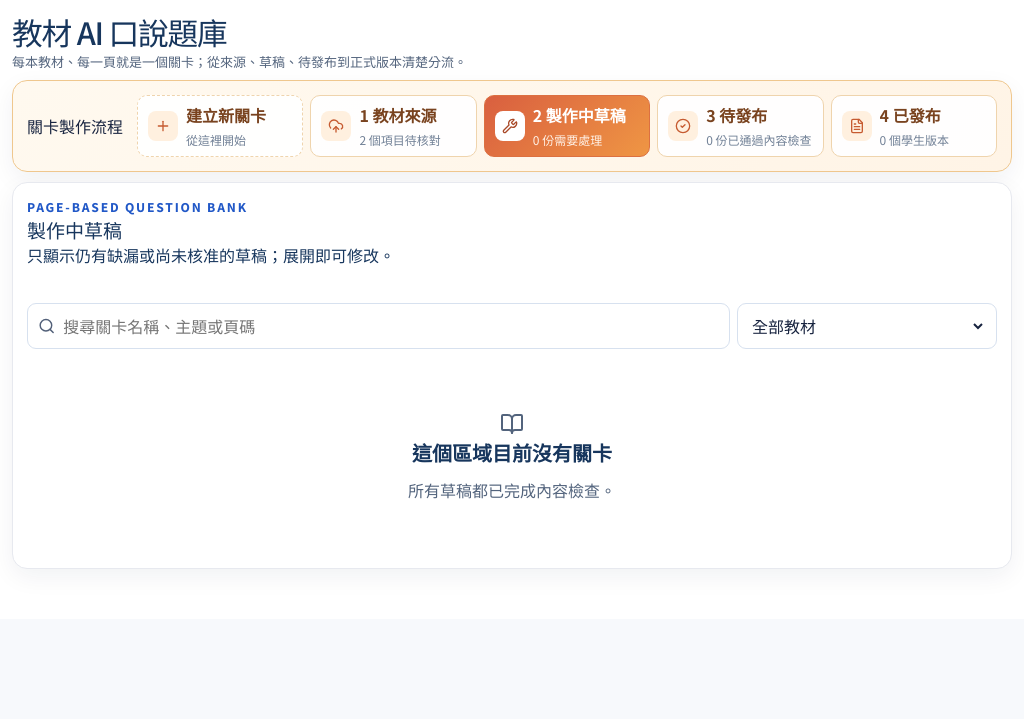
Test: SpeakingContentAdmin whole-book OCR › shows four source tabs and hides superseded whole-book OCR duplicates
The width and height of the screenshot is (1024, 719).
Step 1. Click the button "1 教材來源 2 個項目待核對" → click(394, 126), box [310,95,477,157]
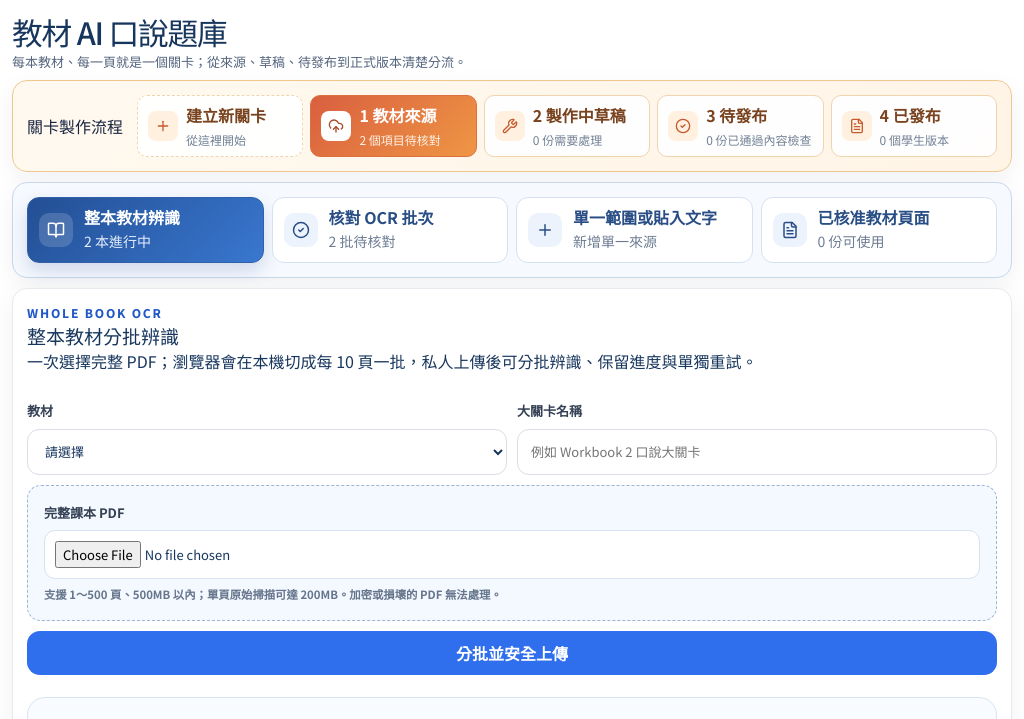
Check: the navigation bar named "教材來源分類" is shown, box [12,182,1012,278]
Check: the button "整本教材辨識 2 本進行中" is shown, box [27,197,264,263]
Check: the button "核對 OCR 批次 2 批待核對" is shown
Step 2. Click the button "核對 OCR 批次 2 批待核對" → click(390, 230), box [272,197,508,263]
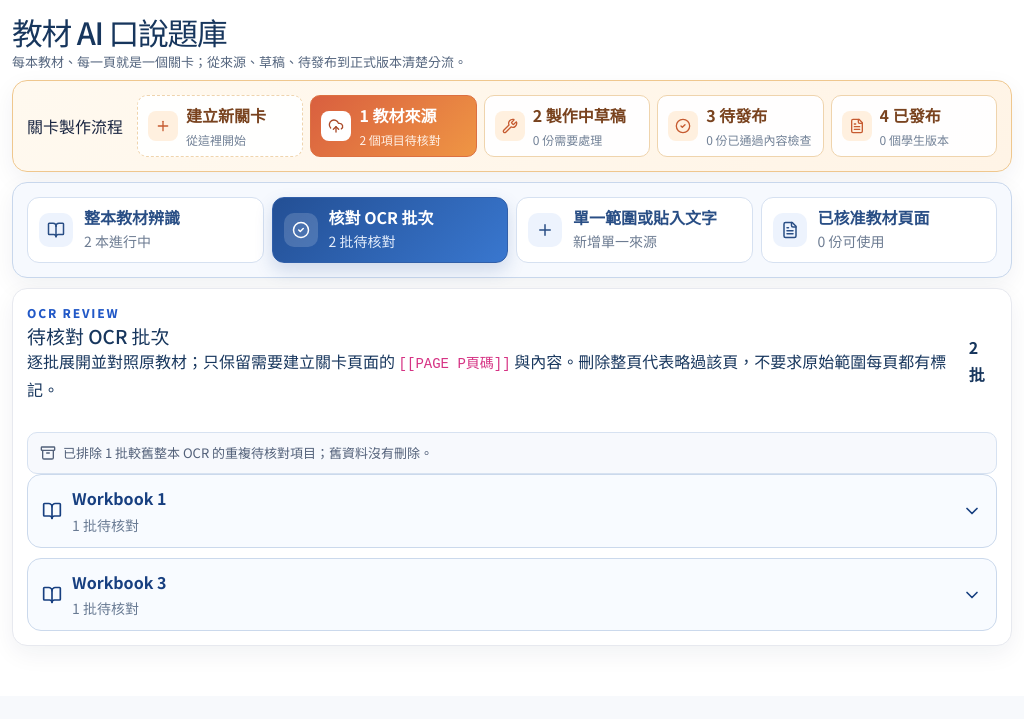
Check: the text "Workbook 1" is shown, box [72,485,166,512]
Check: the heading "待核對 OCR 批次" is shown, box [27,322,170,349]
Check: the text "已排除 1 批較舊整本 OCR 的重複待核對項目；舊資料沒有刪除。" is shown, box [27,432,997,474]
